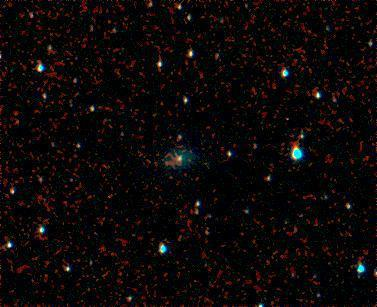star: (151, 147, 181, 177)
